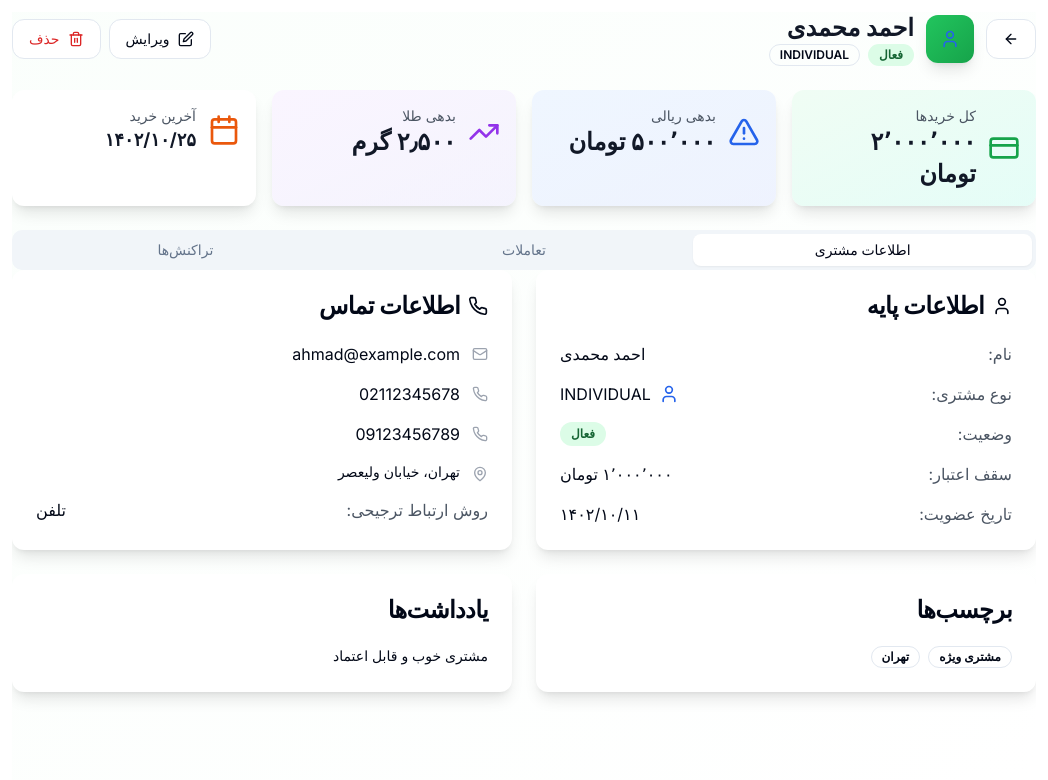
Scenario: CustomerProfile › loads and displays customer interactions
// Switch to interactions tab
Click the button "تعاملات": click(524, 250) [355,234,693,266]
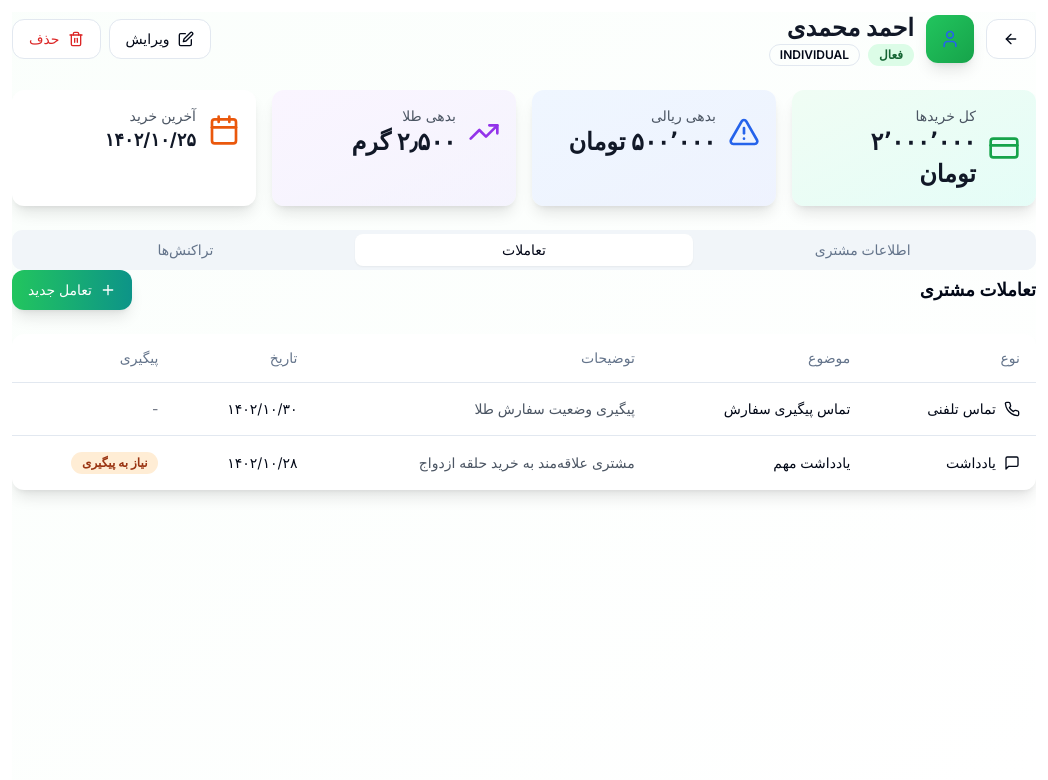
Result: the heading "تعاملات مشتری" is shown at [920,276,1036,304]
